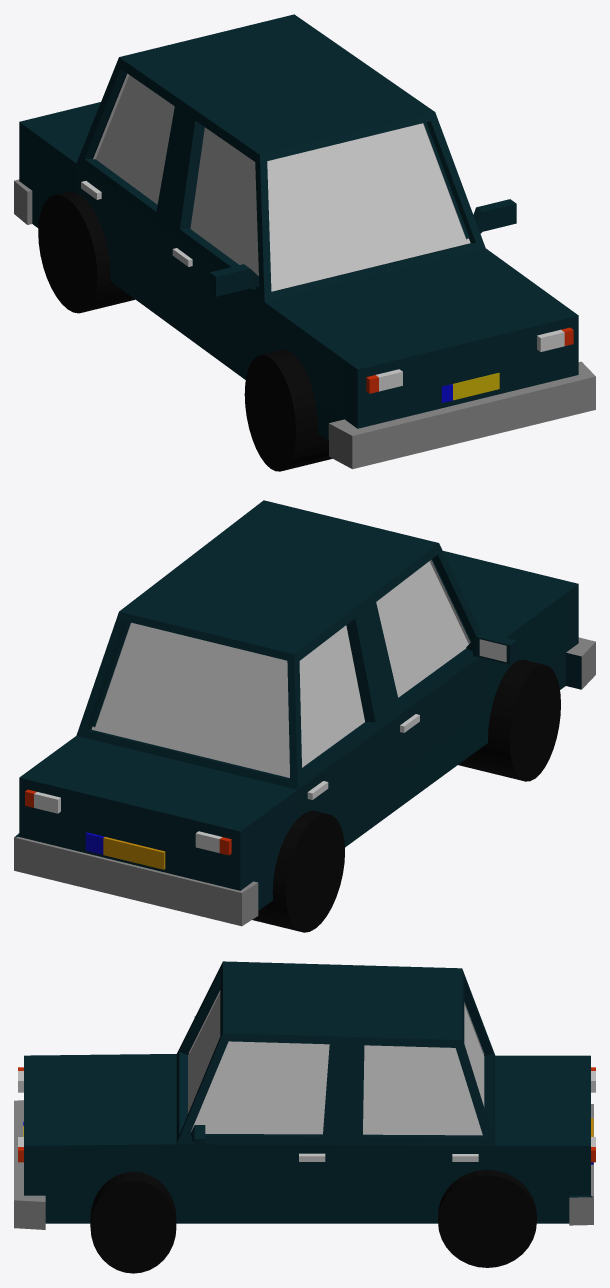
File: Auto1.obj
3 views of the same model, one above another, from view 1: azimuth 30°, elevation 25°; view 2: azimuth 150°, elevation 25°; view 3: azimuth 270°, elevation 25° (orthographic). The views are drawn at different scales.
Parts seen in each view (by area): view 1: Car_Cube, Cylinder_Cylinder.001, Cylinder.001_Cylinder.004, Kubus, Kubus.006, Kubus.001; view 2: Car_Cube, Cylinder_Cylinder.001, Cylinder.001_Cylinder.004, Kubus.005, Kubus.007, Kubus; view 3: Car_Cube, Cylinder.001_Cylinder.004, Cylinder_Cylinder.001.
Boxes of the visible parts, bbox=[...] form: Car_Cube: bbox=[14, 14, 595, 469]; Cylinder_Cylinder.001: bbox=[244, 350, 332, 471]; Cylinder.001_Cylinder.004: bbox=[38, 191, 134, 313]; Kubus: bbox=[209, 199, 516, 296]; Kubus.006: bbox=[366, 327, 573, 393]; Kubus.001: bbox=[441, 373, 499, 402]; Car_Cube: bbox=[14, 500, 595, 926]; Cylinder_Cylinder.001: bbox=[458, 659, 560, 781]; Cylinder.001_Cylinder.004: bbox=[252, 810, 344, 932]; Kubus.005: bbox=[85, 832, 165, 869]; Kubus.007: bbox=[25, 789, 231, 855]; Kubus: bbox=[466, 632, 516, 664]; Car_Cube: bbox=[14, 961, 593, 1229]; Cylinder.001_Cylinder.004: bbox=[438, 1169, 536, 1267]; Cylinder_Cylinder.001: bbox=[90, 1171, 176, 1273].
Bounding box in the file's own units: 4.87 × 4.09 × 9.75.
